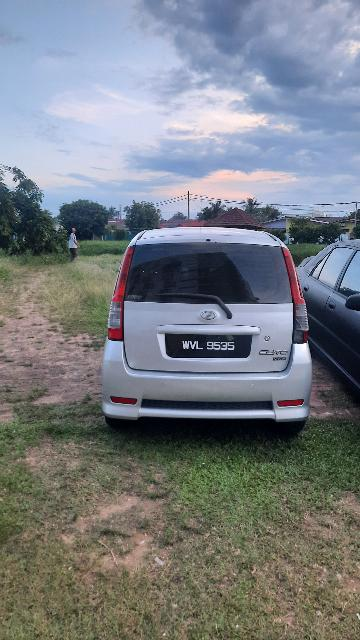License_Plate: (161, 330, 260, 361)
car: (102, 227, 315, 437)
